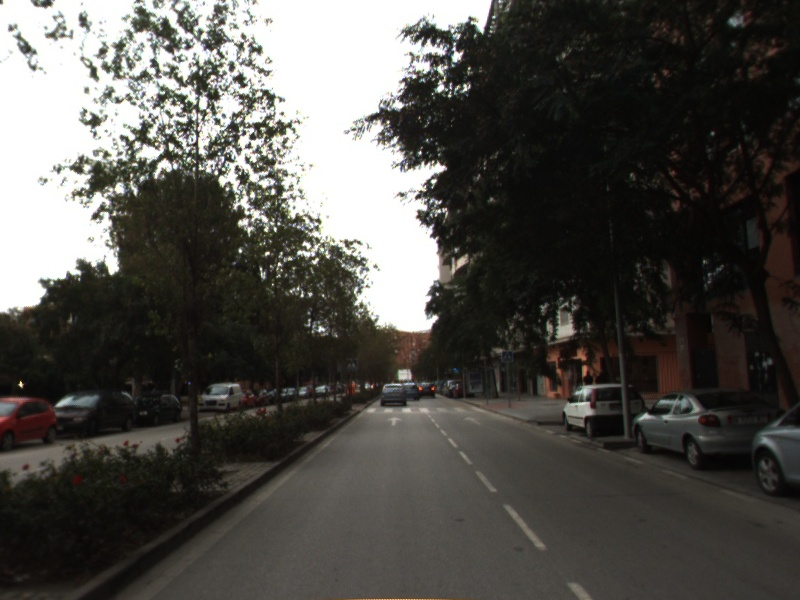STRAIGHT: (461, 415, 484, 427), (385, 415, 405, 427)
